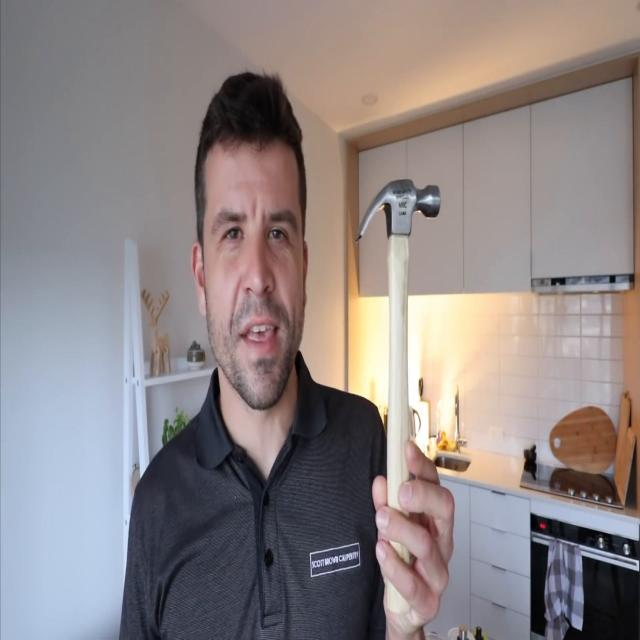hammer: (355, 182, 440, 614)
